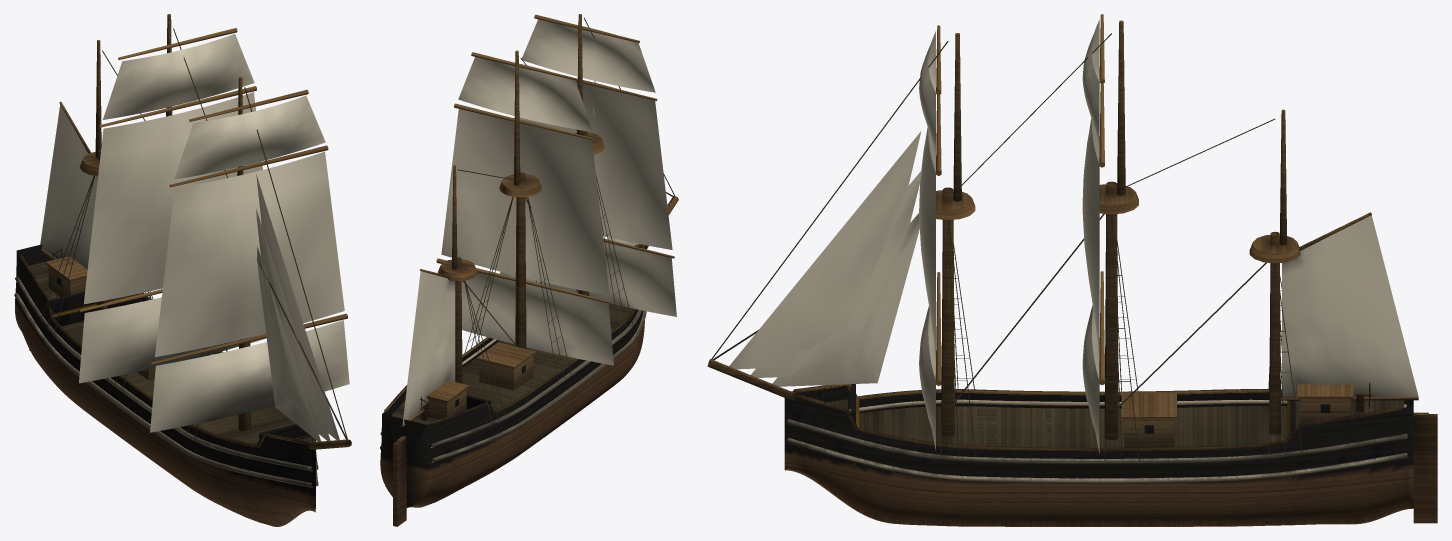
Rendered from model_built.glb.
3 renders of one model, left to right at view 1: azimuth 30°, elevation 25°; view 2: azimuth 150°, elevation 25°; view 3: azimuth 270°, elevation 25°, orthographic. The views are drawn at different scales.
Visible parts, largest first — view 1: sails, hull, rig, rigging; view 2: sails, hull, rig, rigging; view 3: hull, sails, rig, rigging.
Boxes of the visible parts, x1,y1,x2,y2 form: sails: (40,33,349,441); hull: (14,244,318,526); rig: (41,14,351,449); rigging: (39,28,348,443); sails: (402,19,676,424); hull: (380,244,647,526); rig: (401,14,678,426); rigging: (457,17,674,425); hull: (784,382,1437,526); sails: (729,20,1418,454); rig: (707,14,1418,440); rigging: (709,33,1302,460).
Bounding box in the file's own units: 15.42 × 32.3 × 42.5.
4 materials, 2 textured.
